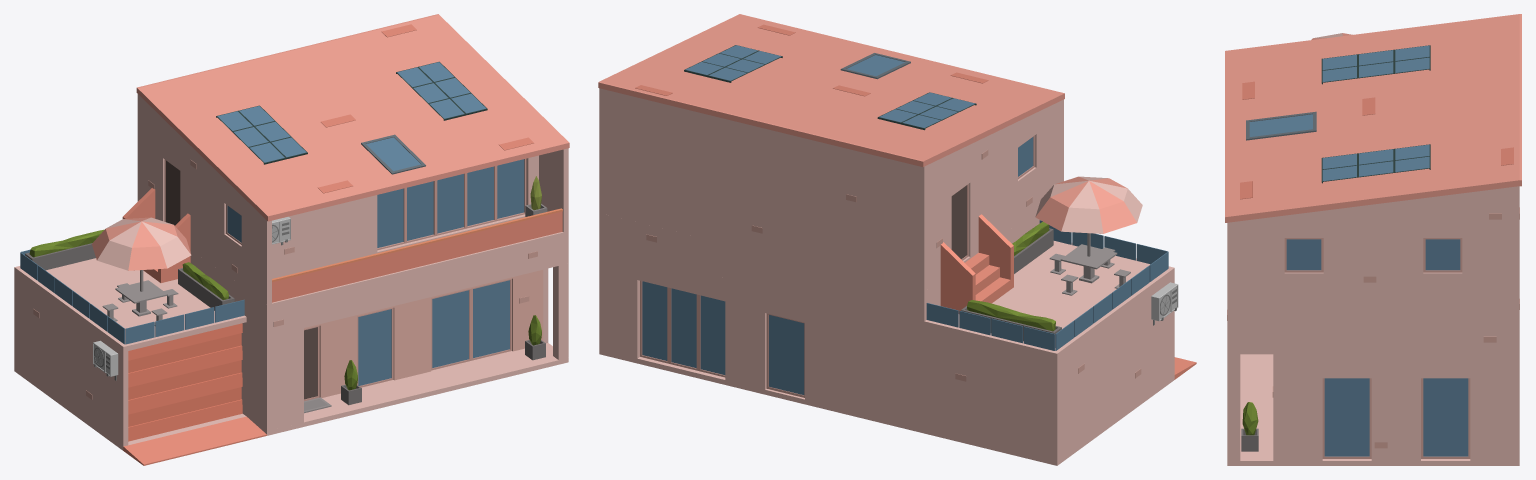
Rendered from house2.glb.
3 views of the same model, side by side, from view 1: azimuth 30°, elevation 25°; view 2: azimuth 150°, elevation 25°; view 3: azimuth 270°, elevation 25° (orthographic). The views are drawn at different scales.
Parts seen in each view (by area): view 1: HC00499165; view 2: HC00499165; view 3: HC00499165.
Part boxes in pixels (x1,y1,x2,y2): HC00499165: (14, 14, 569, 465); HC00499165: (598, 14, 1196, 465); HC00499165: (1225, 14, 1521, 465).
Bounding box in the file's own units: 2.45 × 1.36 × 1.28.
